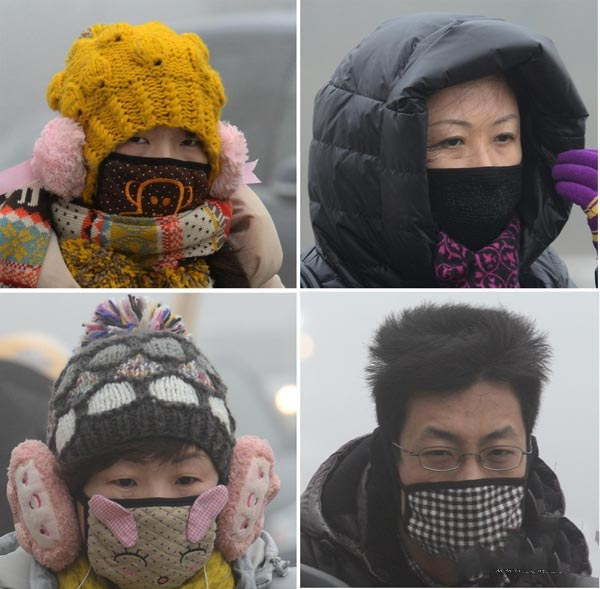face_mask: (80, 423, 223, 588), (397, 379, 527, 556), (413, 72, 524, 233), (96, 103, 211, 233)
